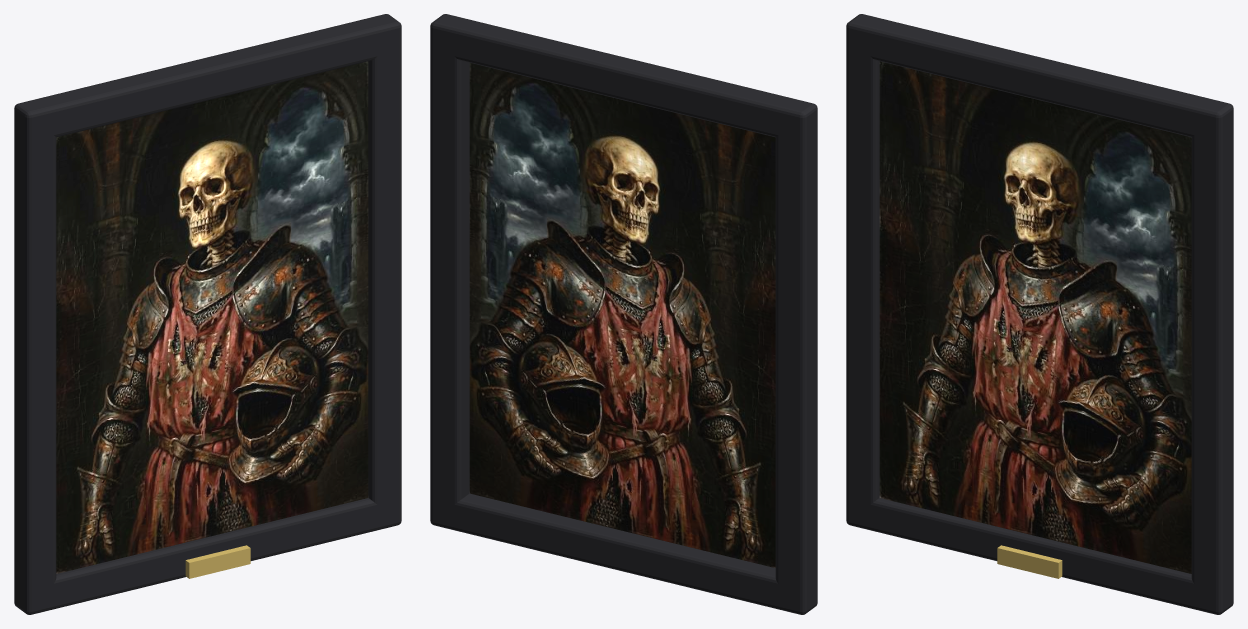
Rendered from art_undead_knight.glb.
3 views of the same model, side by side, from view 1: azimuth 30°, elevation 25°; view 2: azimuth 150°, elevation 25°; view 3: azimuth 330°, elevation 25° (orthographic).
Visible parts, largest first — view 1: GD_art_undead_knight__m0, GD_art_undead_knight__m1, GD_art_undead_knight__m2; view 2: GD_art_undead_knight__m0, GD_art_undead_knight__m1; view 3: GD_art_undead_knight__m0, GD_art_undead_knight__m1, GD_art_undead_knight__m2.
Part boxes in pixels (left/top/right/bottom): GD_art_undead_knight__m0: left=56, top=61, right=368, bottom=573; GD_art_undead_knight__m1: left=14, top=14, right=401, bottom=614; GD_art_undead_knight__m2: left=185, top=545, right=250, bottom=578; GD_art_undead_knight__m0: left=469, top=63, right=775, bottom=567; GD_art_undead_knight__m1: left=430, top=14, right=817, bottom=614; GD_art_undead_knight__m0: left=879, top=61, right=1191, bottom=573; GD_art_undead_knight__m1: left=846, top=14, right=1233, bottom=614; GD_art_undead_knight__m2: left=997, top=545, right=1062, bottom=578.
Bounding box in the file's own units: 0.86 × 1.1 × 0.0775.
3 materials, 1 textured.
